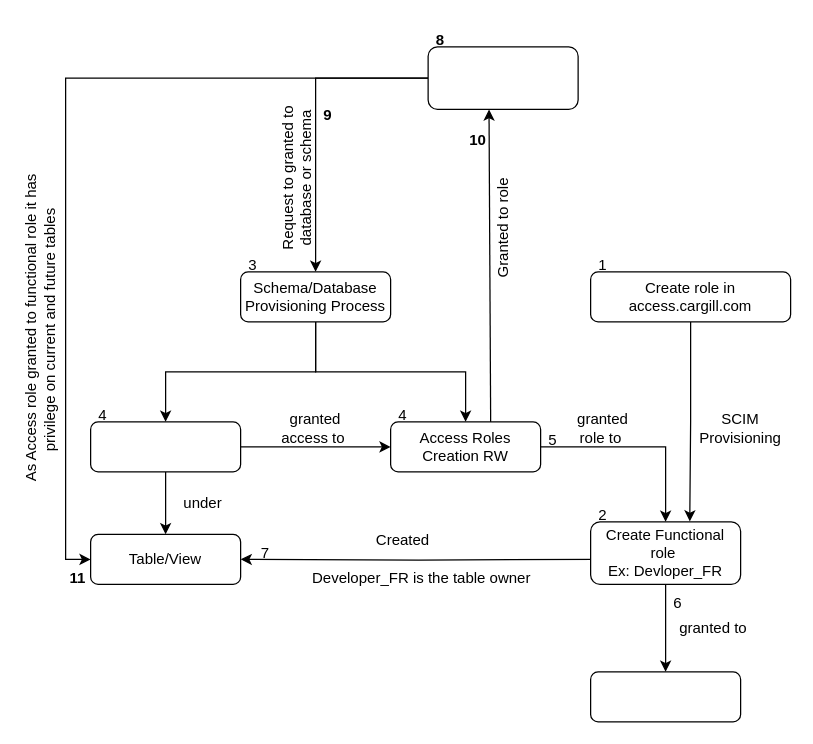
Some shapes in this 813 by 744 pixel diagram are drawn without their labels. The centre of each missing label's shape, as x and y in pixels:
Create new Functional role Ex: Analyst_FR: (x=502, y=77)
Database/Schema (managed) Creation: (x=165, y=446)
User: (x=665, y=696)
